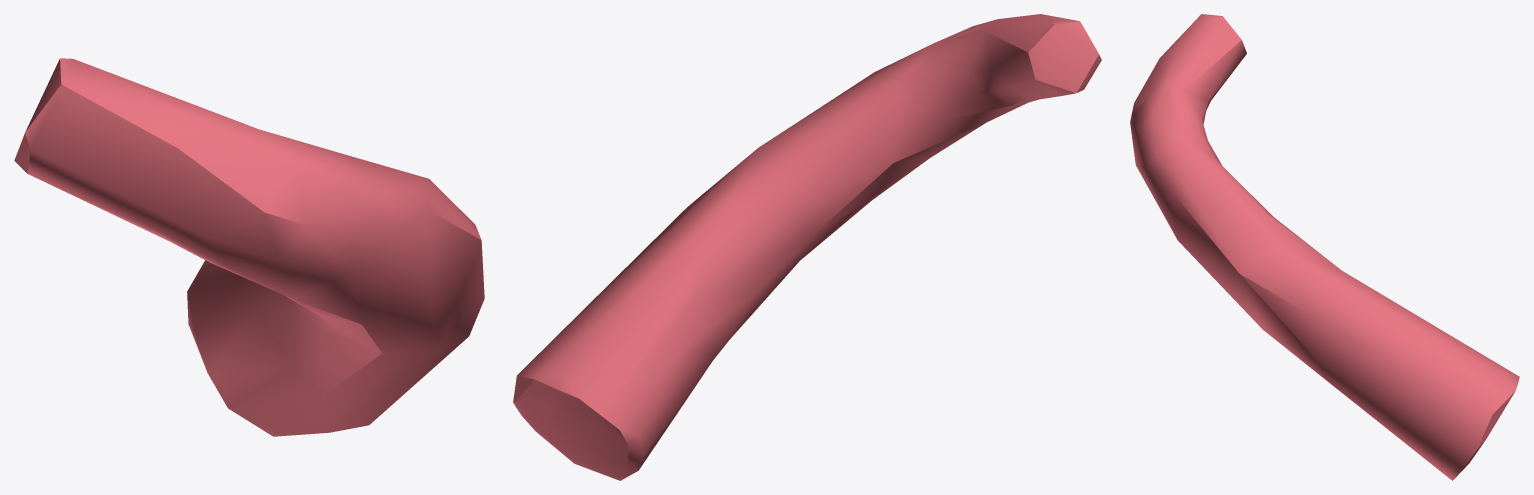
File: fma68131_fj5977.glb
3 views of the same model, side by side, from view 1: azimuth 30°, elevation 25°; view 2: azimuth 150°, elevation 25°; view 3: azimuth 270°, elevation 25° (orthographic). The views are drawn at different scales.
Visible parts, largest first — view 1: FMA68131_FJ5977; view 2: FMA68131_FJ5977; view 3: FMA68131_FJ5977.
Boxes of the visible parts, <box> form: FMA68131_FJ5977: <box>14,58,484,436</box>; FMA68131_FJ5977: <box>513,14,1101,480</box>; FMA68131_FJ5977: <box>1130,14,1519,480</box>.
Bounding box in the file's own units: 0.0123 × 0.0118 × 0.0125.
